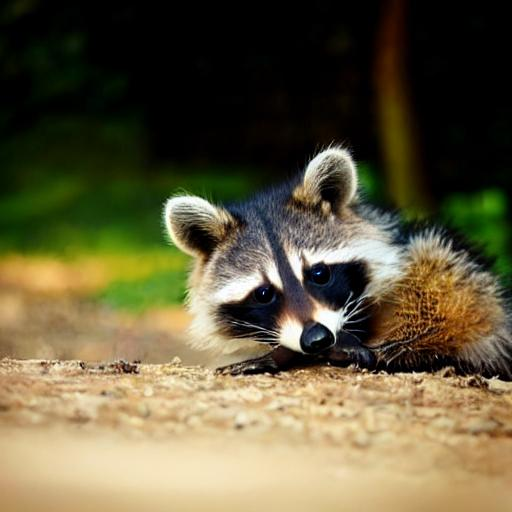raccoon: (149, 131, 512, 369)
